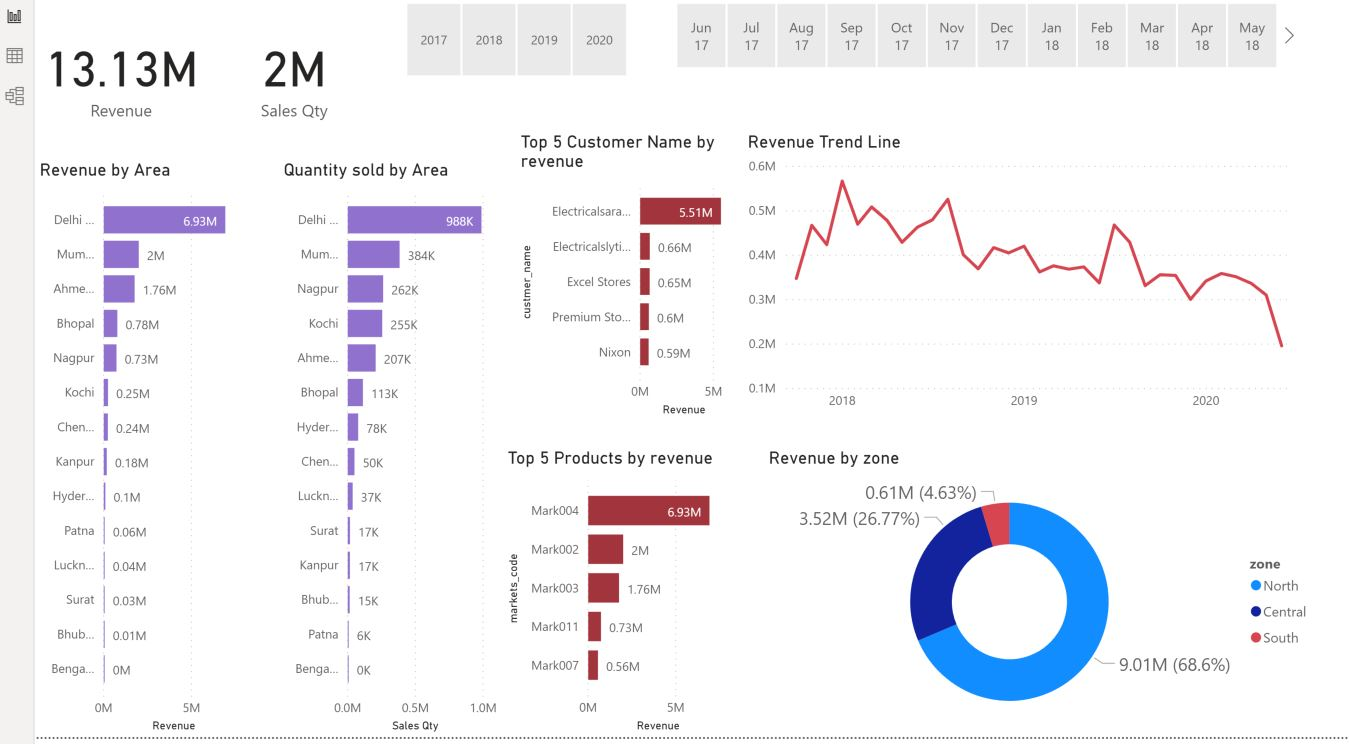

Layout of this report page (visuals, bound fields, positions):
{"tool":"powerbi","page":{"name":"Page 1","canvas":[1280,720],"ordinal":0},"visuals":[{"type":"card","fields":{"Values":["Base measures.Revenue"]},"box":[0,0,168.3,150.8],"z":0},{"type":"card","fields":{"Values":["Base measures.Sales Qty"]},"box":[168.3,0,168.3,150.8],"z":1000},{"type":"barChart","title":"Revenue by Customer","fields":{"Y":["Base measures.Revenue"],"Category":["sales customers.custmer_name"]},"box":[0,158.5,217.9,561.2],"z":2000},{"type":"barChart","title":"Revenue by Area","fields":{"Y":["Base measures.Revenue"],"Category":["sales markets.markets_name"]},"box":[0,158.5,217.9,561.2],"z":3000},{"type":"barChart","title":"Quantity sold by Area","fields":{"Category":["sales markets.markets_name"],"Y":["Base measures.Sales Qty"]},"box":[237.3,158.5,217.9,561.2],"z":4000},{"type":"slicer","fields":{"Values":["sales date.year"]},"box":[336.5,0,262.6,83.6],"z":5000},{"type":"slicer","fields":{"Values":["sales date.cy_date"]},"box":[599.1,0,632.2,75.9],"z":5001},{"type":"barChart","title":"Top 5 Customer Name by revenue","fields":{"Y":["Base measures.Revenue"],"Category":["sales customers.custmer_name"]},"box":[467.8,131.3,220.8,281.1],"z":5002},{"type":"barChart","title":"Top 5 Products by revenue","fields":{"Y":["Base measures.Revenue"],"Category":["sales markets.markets_code"]},"box":[455.2,438.7,233.4,281.1],"z":5003},{"type":"lineChart","title":"Revenue Trend Line","fields":{"Category":["sales date.cy_date"],"Y":["Base measures.Revenue"]},"box":[689,131,542,281],"z":5004},{"type":"donutChart","fields":{"Category":["sales markets.zone"],"Y":["Base measures.Revenue"]},"box":[709.1,438.7,542.7,281.1],"z":5005}]}

Visuals, with their boxes on the page's 1280x720 design canvas (x1, y1, x2, y2). These are canvas units, not pixel positions in the 1349x744 screenshot, which may show the page scaled, cropped or inside an application window:
card - Base measures.Revenue: (0,0,168,151)
card - Base measures.Sales Qty: (168,0,337,151)
"Revenue by Customer" barChart: (0,158,218,720)
"Revenue by Area" barChart: (0,158,218,720)
"Quantity sold by Area" barChart: (237,158,455,720)
slicer - sales date.year: (336,0,599,84)
slicer - sales date.cy_date: (599,0,1231,76)
"Top 5 Customer Name by revenue" barChart: (468,131,689,412)
"Top 5 Products by revenue" barChart: (455,439,689,720)
"Revenue Trend Line" lineChart: (689,131,1231,412)
donutChart - sales markets.zone x Base measures.Revenue: (709,439,1252,720)
